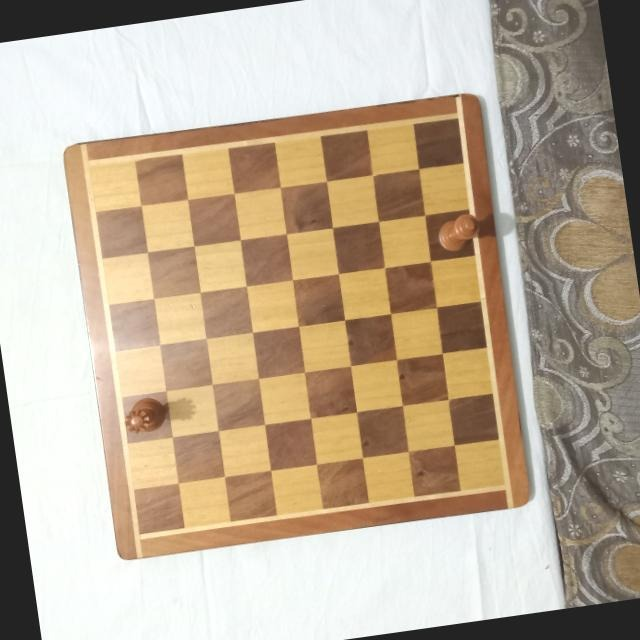white-king: (435, 210, 485, 254)
white-queen: (120, 395, 170, 437)
